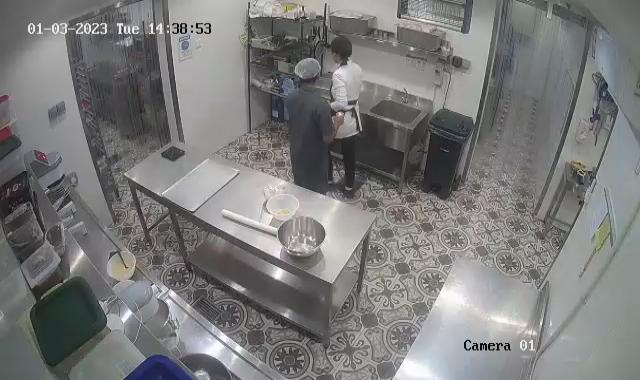hairnet: (294, 57, 322, 89)
no_hairnet: (328, 34, 354, 64)
